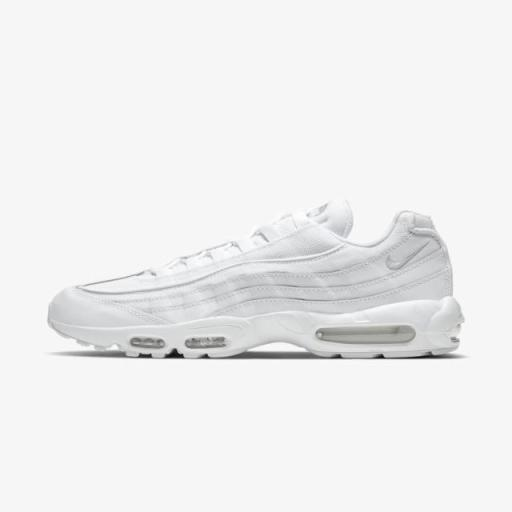Nike: (382, 242, 432, 271)
